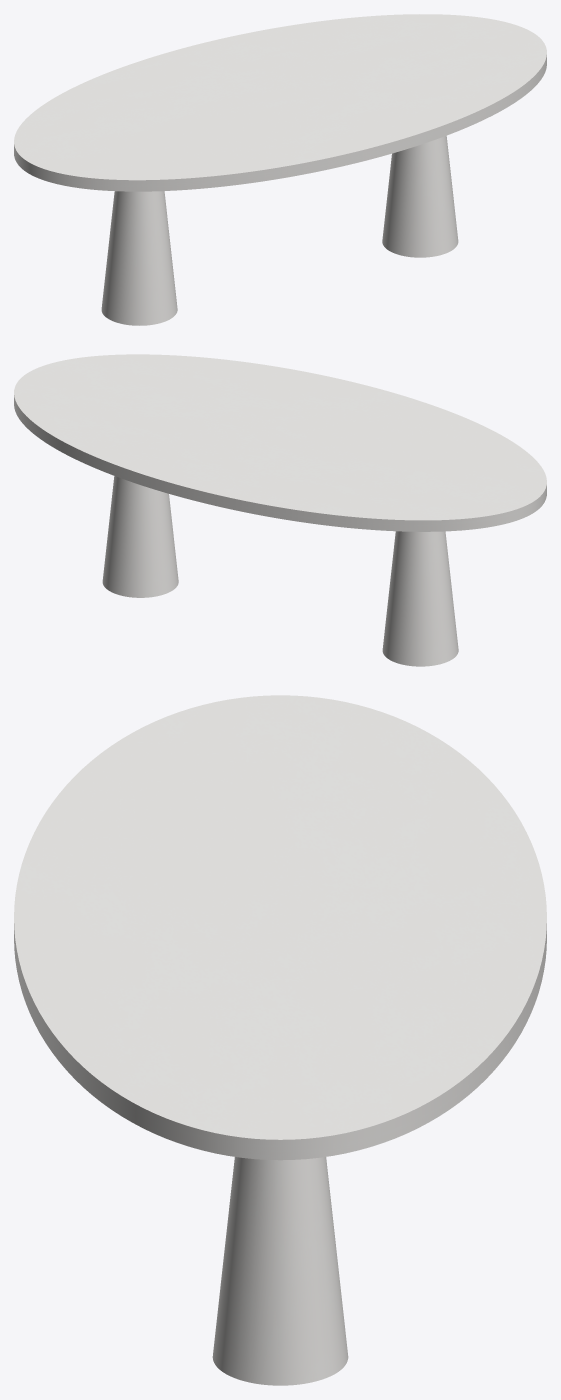
File: purewhite_ellips_standard_pebble.glb
3 views of the same model, one above another, from view 1: azimuth 30°, elevation 25°; view 2: azimuth 150°, elevation 25°; view 3: azimuth 270°, elevation 25° (orthographic). The views are drawn at different scales.
Parts seen in each view (by area): view 1: standard_ellips, pebble; view 2: standard_ellips, pebble; view 3: standard_ellips, pebble.
Part boxes in pixels (x1,y1,x2,y2): standard_ellips: [14, 14, 546, 191]; pebble: [101, 136, 458, 325]; standard_ellips: [14, 354, 546, 531]; pebble: [102, 476, 458, 666]; standard_ellips: [14, 695, 546, 1160]; pebble: [212, 1157, 348, 1385].
Bounding box in the file's own units: 7.5 × 2.5 × 3.8.
1 material, 1 textured.
